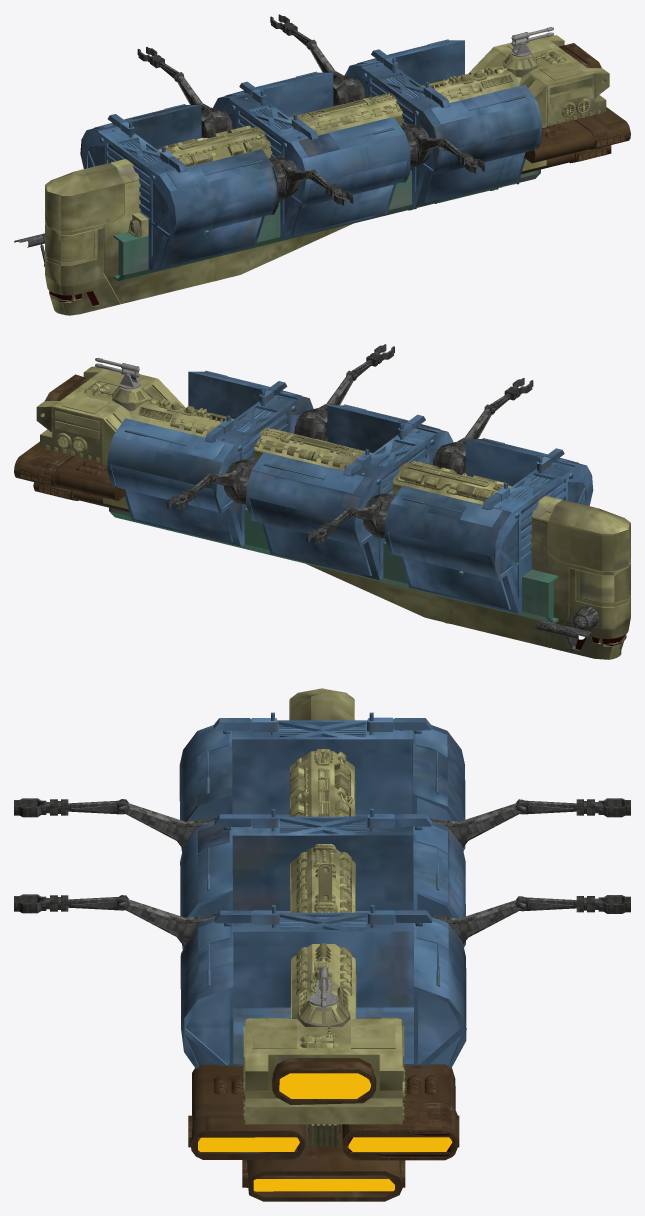
The model's file is freighter-a.glb.
3 renders of one model, top to bottom at view 1: azimuth 30°, elevation 25°; view 2: azimuth 150°, elevation 25°; view 3: azimuth 270°, elevation 25°, orthographic. The views are drawn at different scales.
Visible parts, largest first — view 1: hull; view 2: hull; view 3: hull.
Boxes of the visible parts, x1,y1,x2,y2 form: hull: [14, 14, 630, 315]; hull: [14, 344, 630, 659]; hull: [14, 688, 630, 1201].
Bounding box in the file's own units: 64 × 18.75 × 42.35.
Materials: 13 (10 with a texture image).
